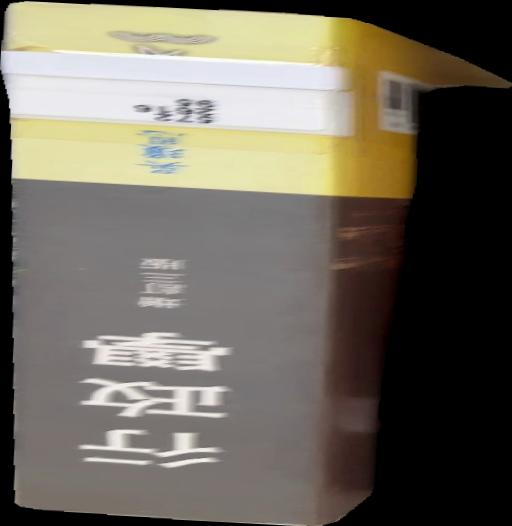reverse: (1, 1, 512, 526)
